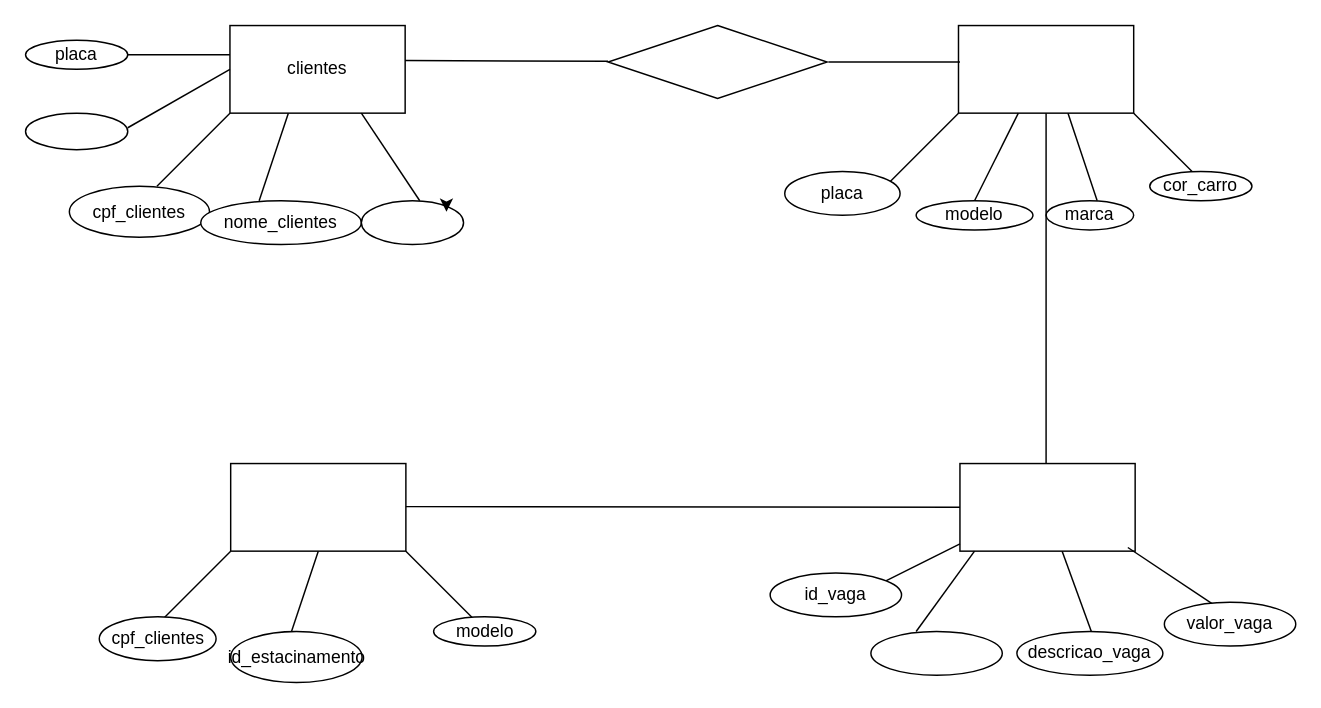
This 1321x708 diagram has some shape labels left out. Here are the shapes that lost their labels. From the top down, the centre of each, then its label:
At (x=717, y=61): "Possui".
At (x=1045, y=68): "carro".
At (x=76, y=131): "telefones".
At (x=412, y=222): "endereco".
At (x=317, y=506): "estacionamento".
At (x=1046, y=506): "vaga".
At (x=935, y=652): "tipo_vaga".
